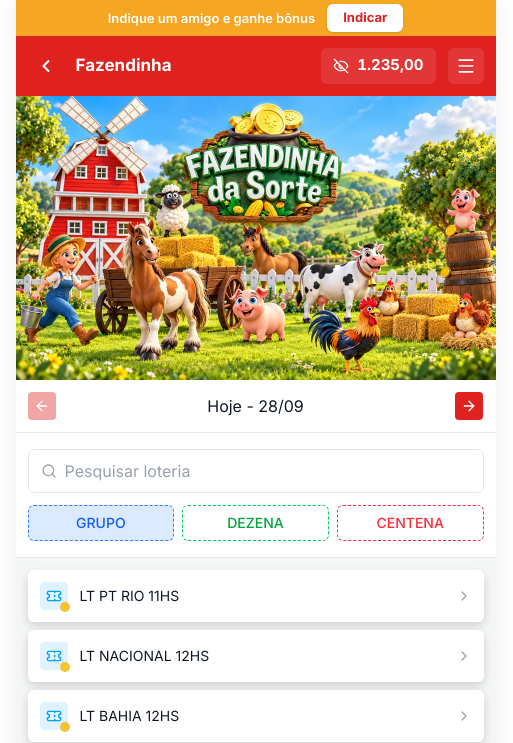
it: FazendinhaPage › cotações da modalidade escolhida, descontando os números vendidos
The image size is (513, 743).
Click the button "LT PT RIO 11HS": (129, 596) [28,570,484,622]
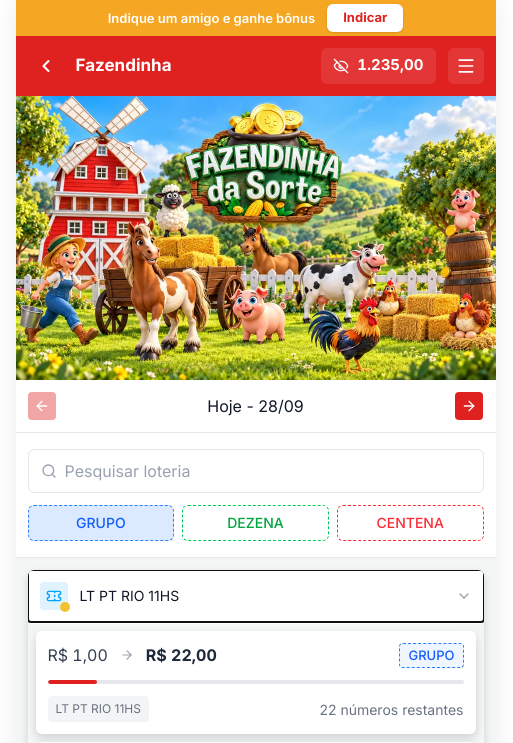
Now the list item "R$ 1,00 R$ 22,00 GRUPO LT PT RIO 11HS 22 números restantes" is shown, box [36,630,476,734]
Click the button "CENTENA": (410, 522) [337,504,484,540]
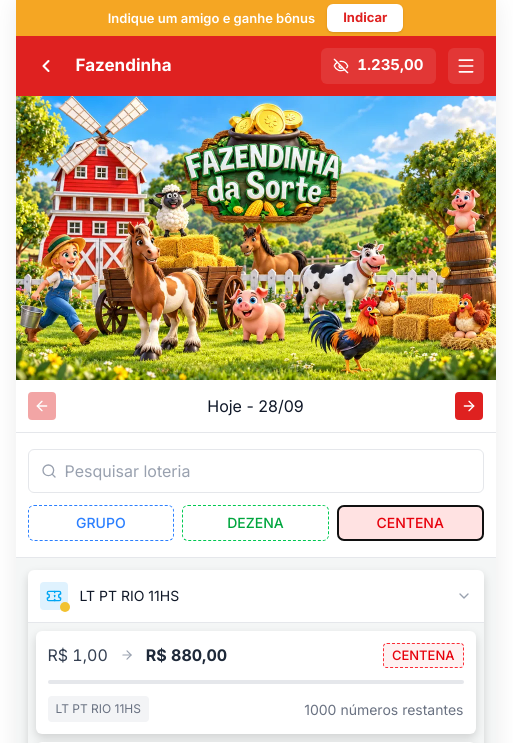
Now the list item that starts with "R$ 1,00" reads "R$ 1,00 R$ 880,00 CENTENA LT PT RIO 11HS 1000 números restantes", box [36,630,476,734]
